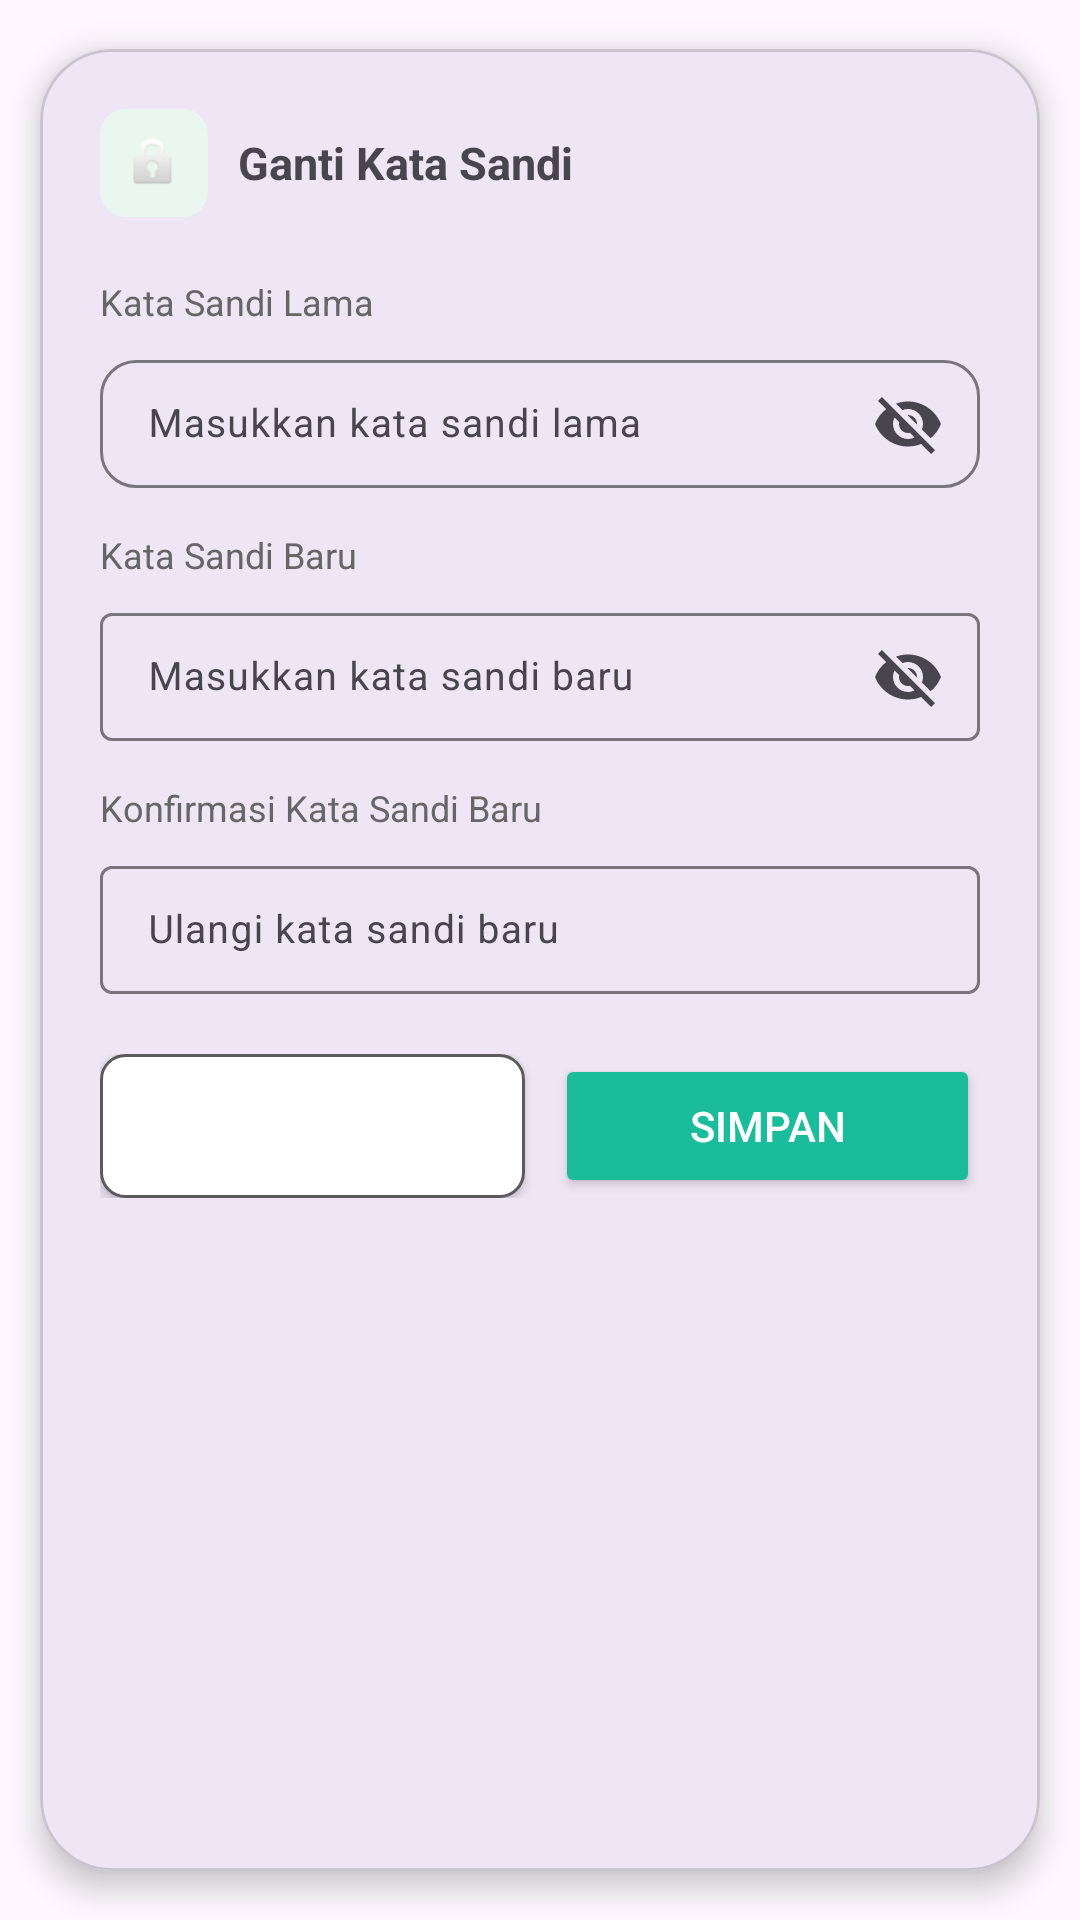

Locate icon controls on the screen. Image size 1080px×1920px, boxes as {"x1": x1, "y1": y1, "x2": x2, "y2": y2}.
lock idle: {"x1": 100, "y1": 109, "x2": 208, "y2": 217}
